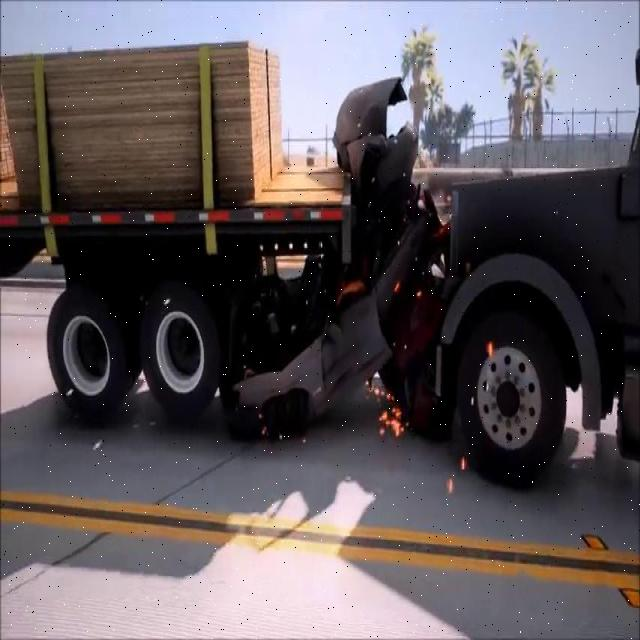moderate: (0, 0, 640, 495)
